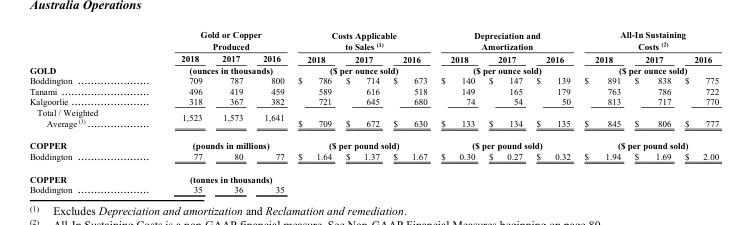table: (28, 28, 718, 193)
table column: (28, 28, 138, 193), (138, 28, 211, 193), (576, 28, 627, 193), (627, 28, 677, 193), (290, 28, 338, 193), (385, 28, 433, 193), (433, 28, 481, 193), (528, 28, 576, 193), (338, 28, 385, 193), (481, 28, 528, 193), (211, 28, 252, 193), (677, 28, 718, 193), (252, 28, 290, 193)
table column header: (28, 28, 718, 64)
table row: (28, 106, 718, 133), (28, 28, 718, 52), (28, 133, 718, 150), (28, 150, 718, 167), (28, 167, 718, 183), (28, 52, 718, 64), (28, 64, 718, 75), (28, 95, 718, 106), (28, 75, 718, 85), (28, 85, 718, 95), (28, 183, 718, 193)
table spanning cell: (138, 28, 290, 52), (290, 28, 433, 52), (433, 28, 576, 52), (576, 28, 718, 52), (138, 133, 290, 150), (138, 167, 290, 183), (290, 133, 433, 150), (433, 133, 576, 150), (576, 133, 718, 150), (138, 64, 290, 75), (290, 64, 433, 75), (433, 64, 576, 75), (576, 64, 718, 75)
